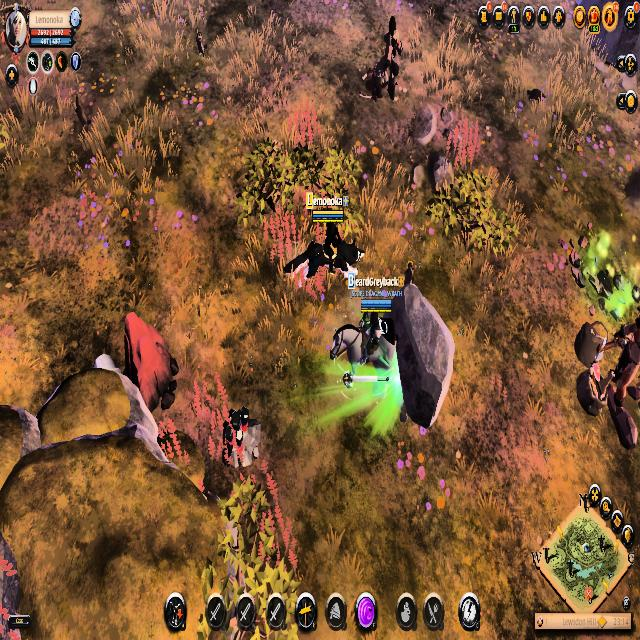ore tier 5: (220, 403, 261, 471)
rock tier 5: (122, 309, 178, 411)
